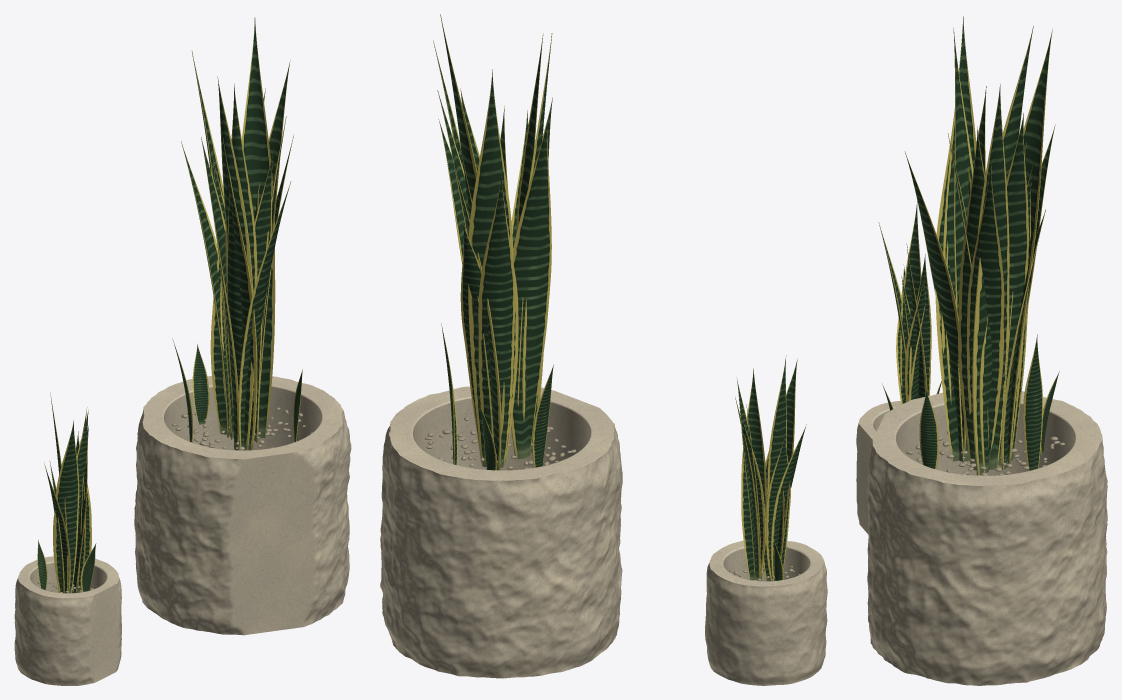
Rendered from limestone_planters.glb.
The picture shows the model from 3 angles, left to right: view 1: azimuth 30°, elevation 25°; view 2: azimuth 150°, elevation 25°; view 3: azimuth 270°, elevation 25°; orthographic projection. The views are drawn at different scales.
Visible parts, largest first — view 1: Planter_Large_Stone, Planter_Large_SnakePlant, Planter_Small_Stone, Planter_Small_SnakePlant, Planter_Large_Pebbles; view 2: Planter_Large_Stone, Planter_Large_SnakePlant, Planter_Small_Stone, Planter_Small_SnakePlant, Planter_Large_Pebbles; view 3: Planter_Large_Stone, Planter_Large_SnakePlant, Planter_Small_SnakePlant, Planter_Small_Stone, Planter_Large_Pebbles.
Boxes of the visible parts, x1,y1,x2,y2 form: Planter_Large_Stone: (134, 375, 351, 635); Planter_Large_SnakePlant: (172, 17, 302, 450); Planter_Small_Stone: (14, 556, 121, 685); Planter_Small_SnakePlant: (37, 392, 96, 593); Planter_Large_Pebbles: (172, 407, 312, 450); Planter_Large_Stone: (380, 386, 622, 678); Planter_Large_SnakePlant: (433, 14, 553, 470); Planter_Small_Stone: (705, 540, 827, 685); Planter_Small_SnakePlant: (735, 355, 806, 581); Planter_Large_Pebbles: (425, 417, 576, 469); Planter_Large_Stone: (867, 391, 1107, 685); Planter_Large_SnakePlant: (904, 16, 1059, 475); Planter_Small_SnakePlant: (878, 201, 941, 410); Planter_Small_Stone: (856, 401, 901, 533); Planter_Large_Pebbles: (906, 431, 1064, 475).
Bounding box in the file's own units: 0.6564 × 1.01 × 0.3656.
6 materials, 5 textured.
